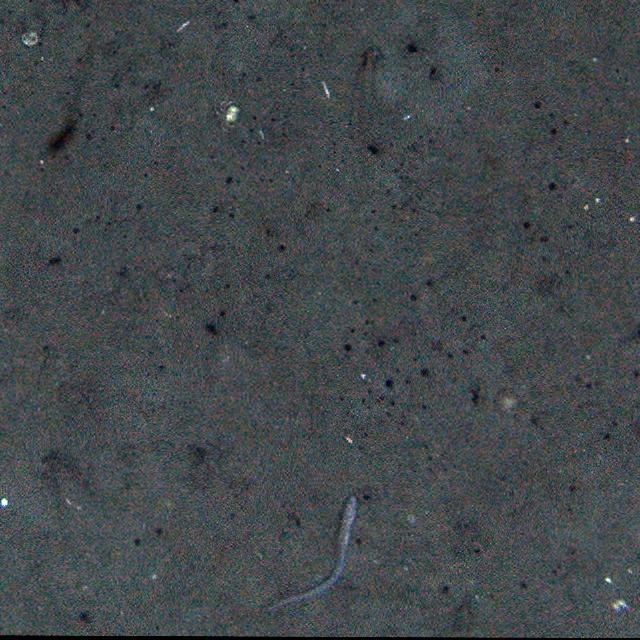eel: (266, 493, 362, 616)
